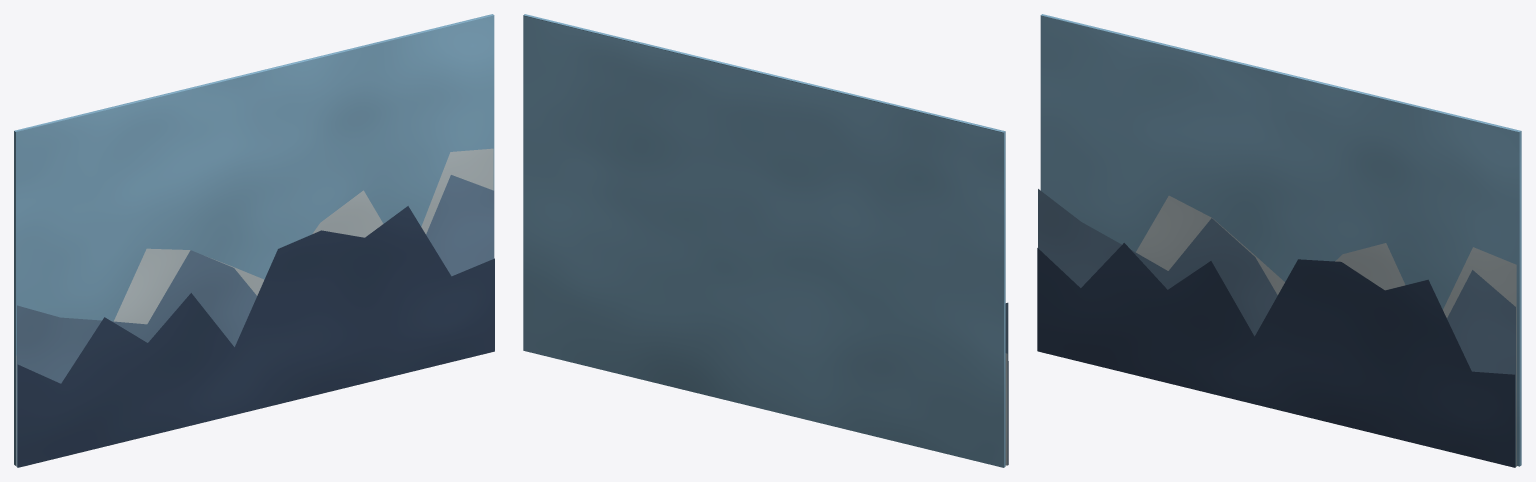
Rendered from 04_Painted_Alpine_View.fbx.
3 renders of one model, left to right at view 1: azimuth 30°, elevation 25°; view 2: azimuth 150°, elevation 25°; view 3: azimuth 330°, elevation 25°, orthographic.
Parts seen in each view (by area): view 1: 04_Painted_Alpine_View; view 2: 04_Painted_Alpine_View; view 3: 04_Painted_Alpine_View.
Boxes of the visible parts, left/top/right/bottom form: 04_Painted_Alpine_View: left=14, top=14, right=494, bottom=467; 04_Painted_Alpine_View: left=523, top=14, right=1008, bottom=467; 04_Painted_Alpine_View: left=1037, top=14, right=1521, bottom=467.
Size of the model in its own units: 376 by 250 by 5.85.
Materials: 1 (1 with a texture image).
